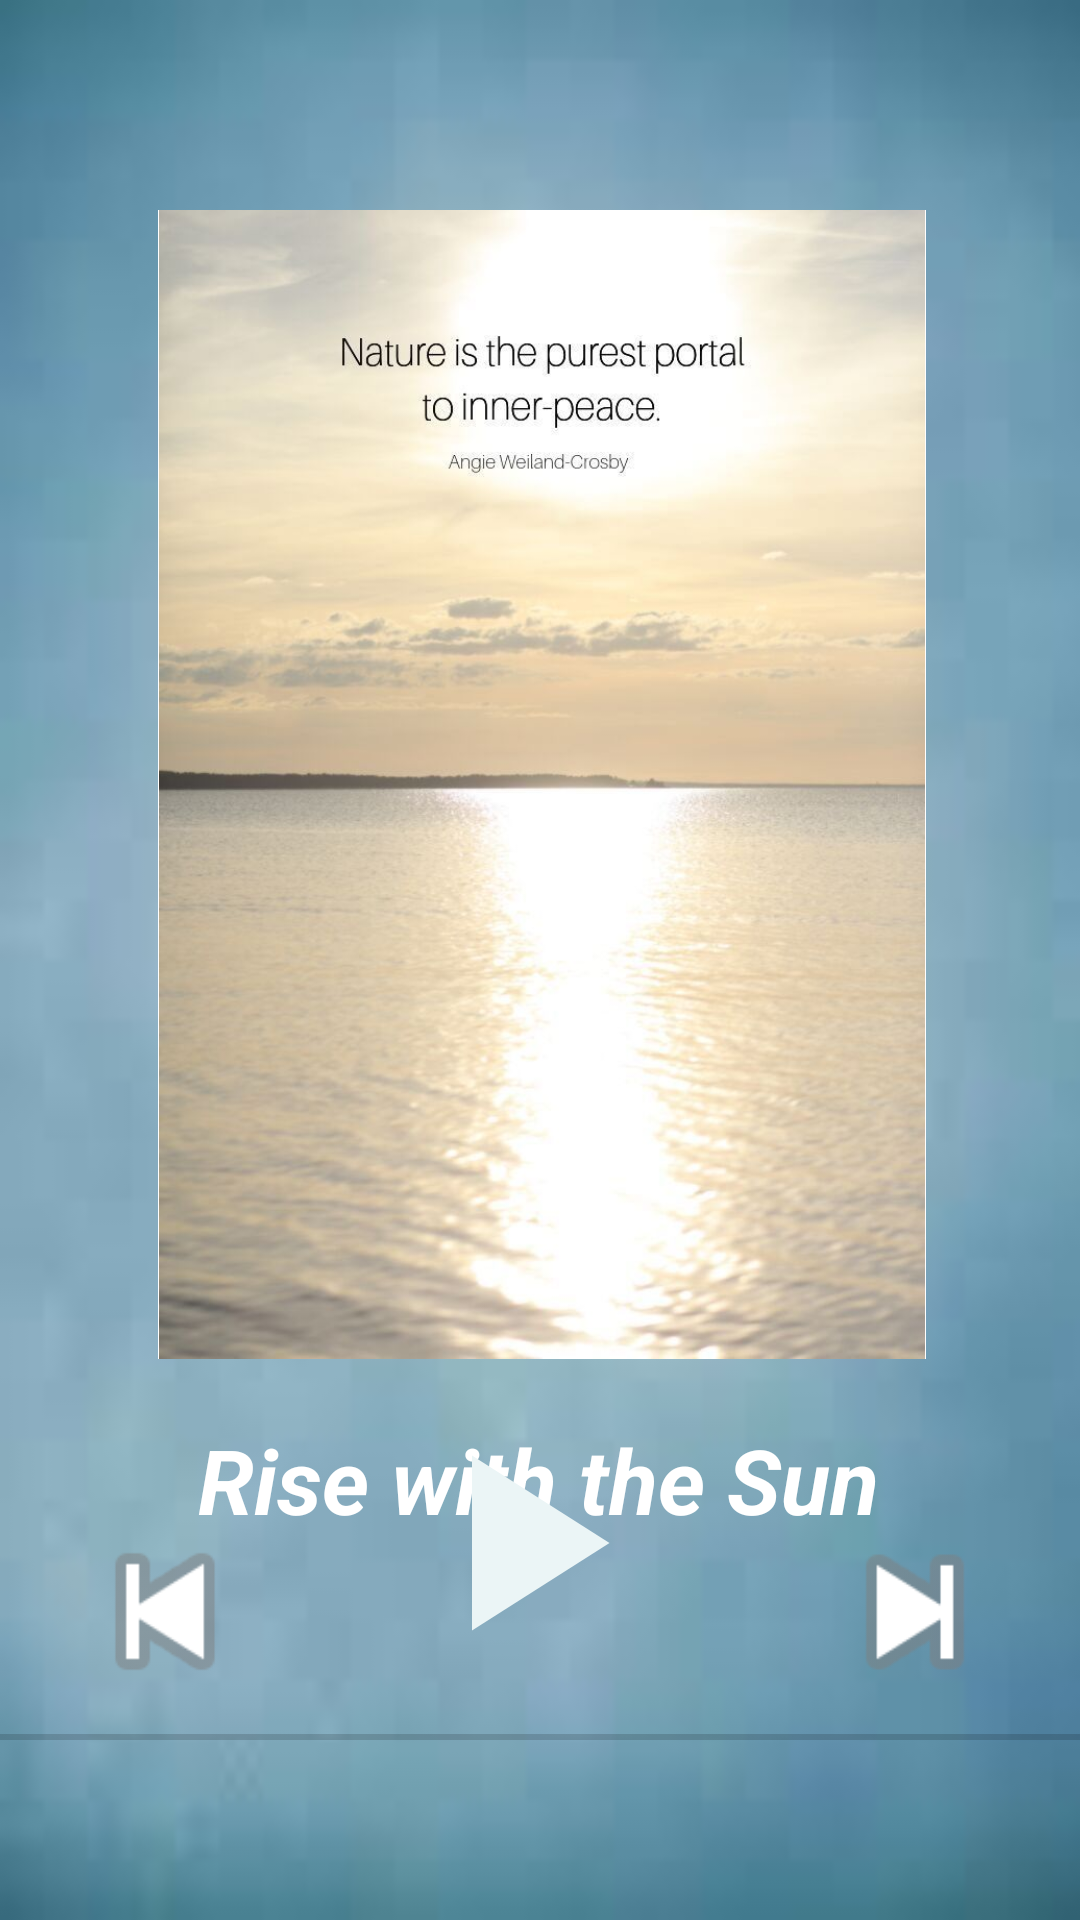

Locate icon controls on the screen. Image size 1080w x 1920h, boxes as (x1, y1, x2, y2).
previous: (116, 1554, 214, 1669)
